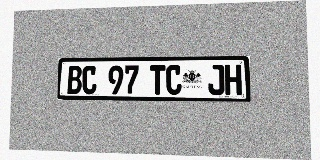7: (124, 65, 139, 94)
9: (108, 65, 123, 94)
B: (67, 66, 82, 94)
C: (166, 65, 182, 95), (82, 66, 97, 94)
H: (225, 64, 242, 95)
J: (208, 65, 224, 95)
T: (150, 65, 165, 95)
